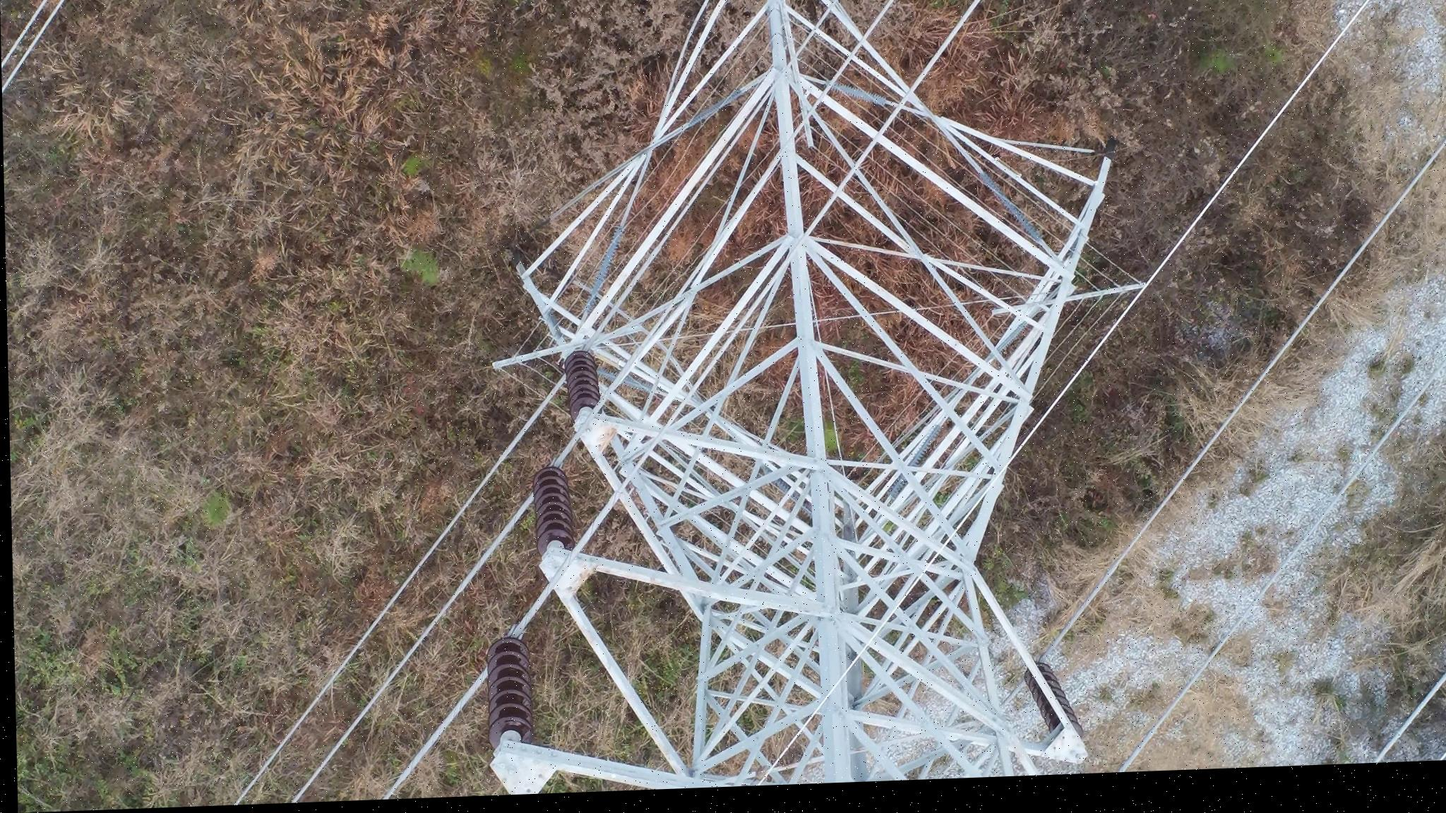tower: (469, 0, 1151, 796)
